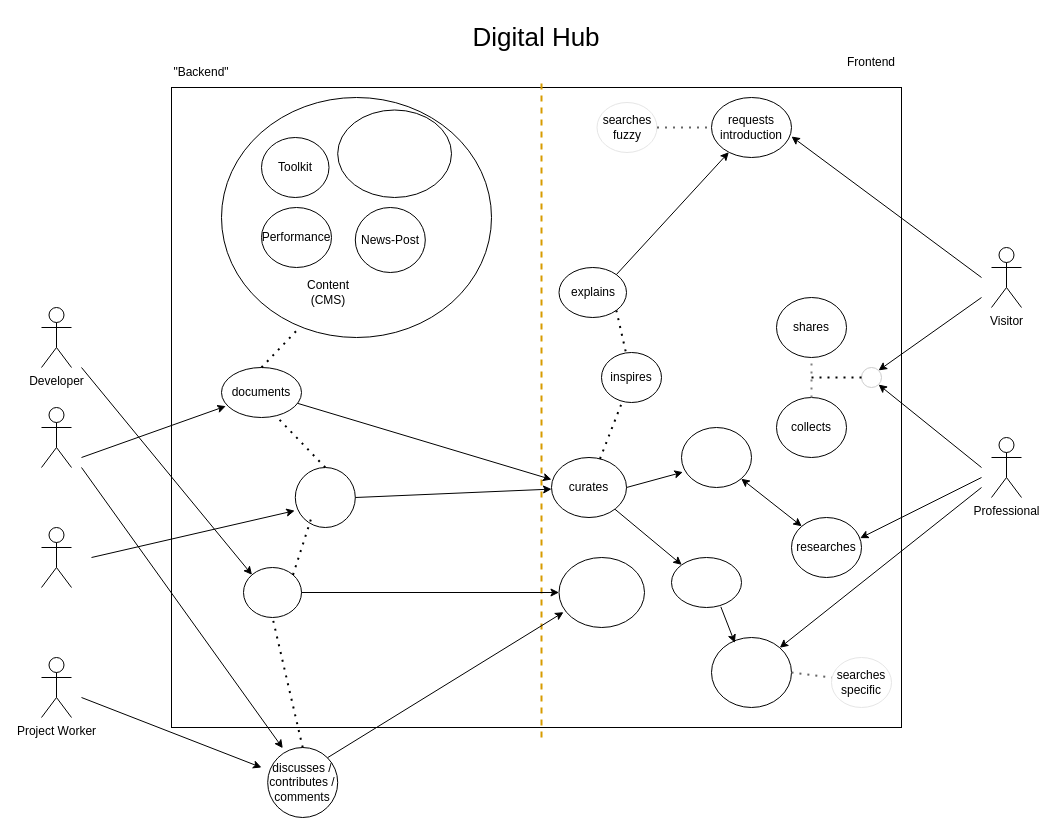
Some shapes in this 1057 by 835 pixel diagram are drawn without their labels. Here are the shapes that lost their labels. From the top down, the centre of each, then its label:
At pixel 394 153: "Digital Object (= E-shop item)".
At pixel 56 437: "Team-Leader".
At pixel 716 457: "provide innovation".
At pixel 324 497: "publishes".
At pixel 56 557: "CMS-User".
At pixel 272 592: "organizes".
At pixel 601 592: "find project envs (discord etc.)".
At pixel 706 582: "structurizes".
At pixel 751 672: "requests structure".
